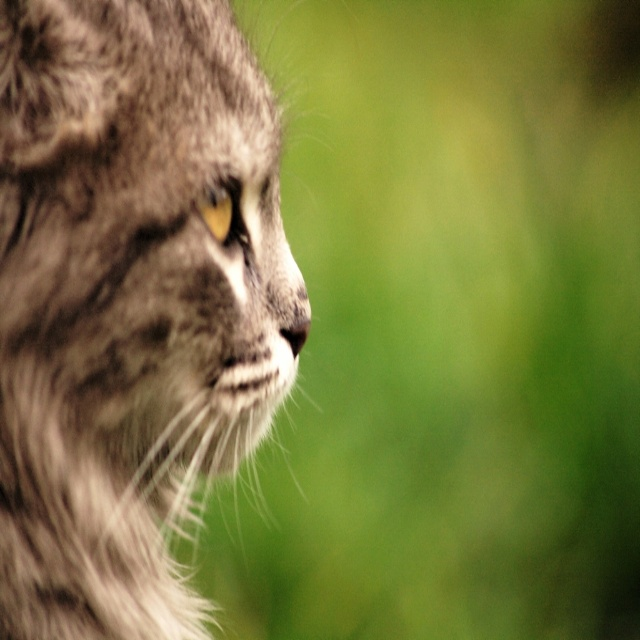Lynx: (0, 0, 327, 640)
